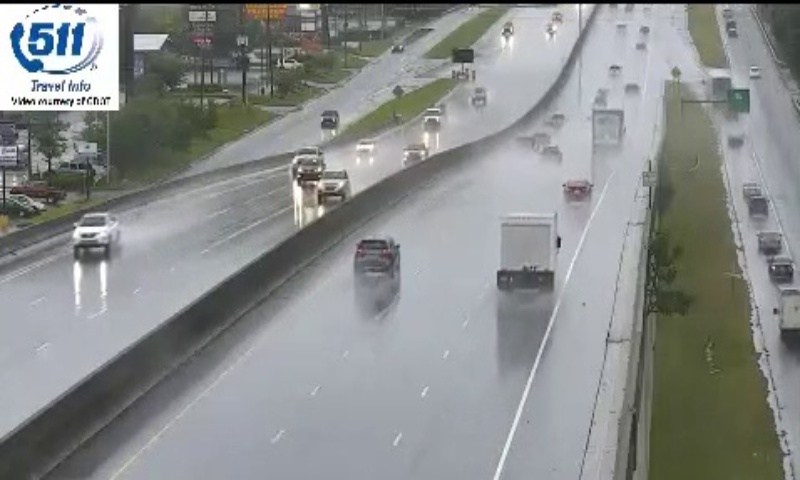car: (353, 238, 400, 272), (564, 179, 592, 201)
small-truck: (498, 215, 557, 289), (590, 108, 624, 154)
